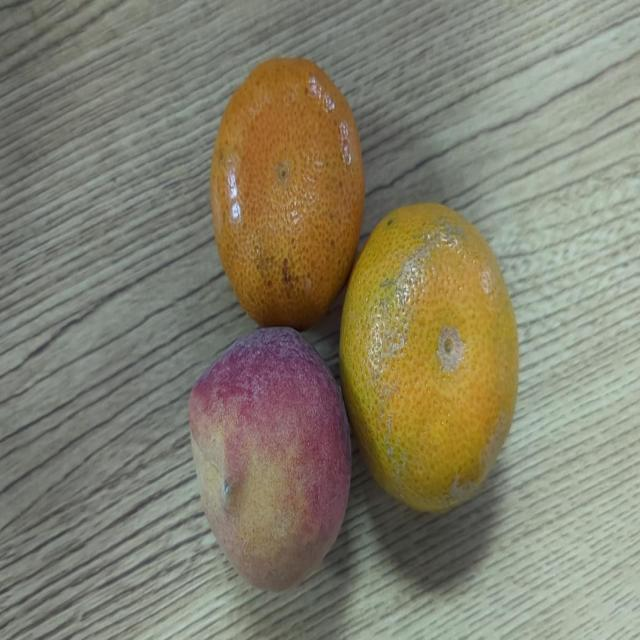Jeruk Mandarin: (346, 198, 524, 516), (211, 47, 367, 322)
Persik: (184, 326, 355, 600)
